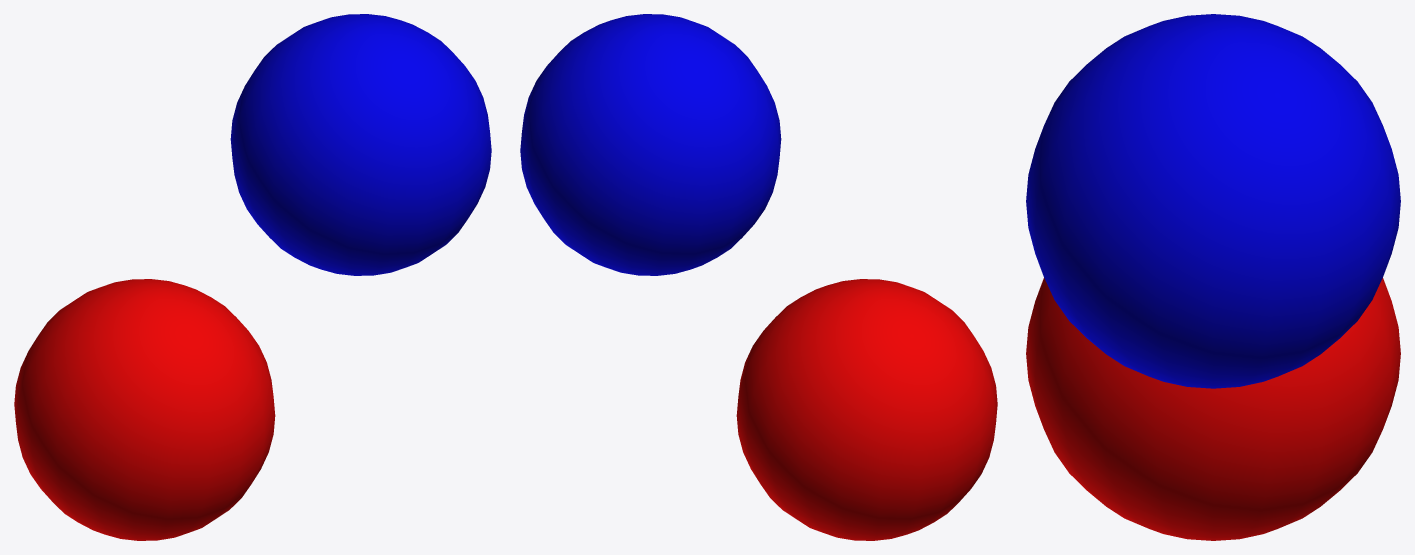
File: sampleScene.fbx
3 views of the same model, side by side, from view 1: azimuth 30°, elevation 25°; view 2: azimuth 150°, elevation 25°; view 3: azimuth 270°, elevation 25° (orthographic). The views are drawn at different scales.
Visible parts, largest first — view 1: pSphere1, pSphere2; view 2: pSphere1, pSphere2; view 3: pSphere2, pSphere1.
Boxes of the visible parts, x1=… form: pSphere1: x1=14, y1=279, x2=275, y2=540; pSphere2: x1=230, y1=14, x2=491, y2=275; pSphere1: x1=736, y1=279, x2=997, y2=540; pSphere2: x1=520, y1=14, x2=781, y2=275; pSphere2: x1=1026, y1=14, x2=1400, y2=388; pSphere1: x1=1026, y1=278, x2=1400, y2=540.
Size of the model in its own units: 3.9 by 3.78 by 2.
